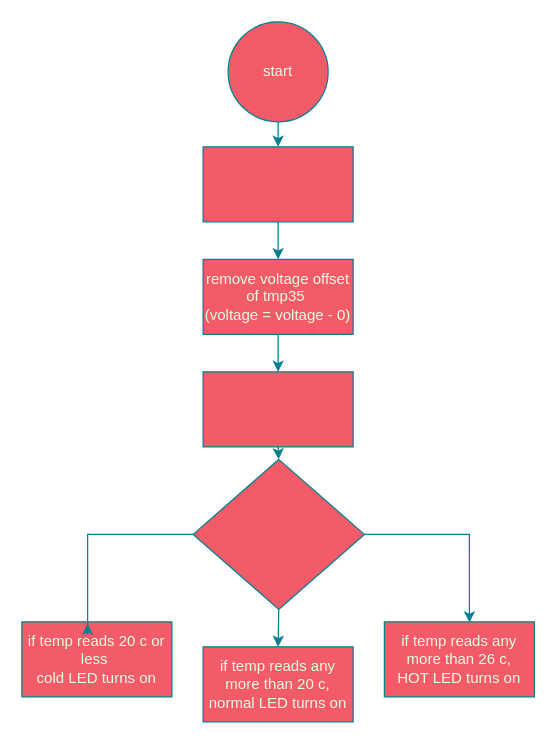
Some shapes in this 556 by 744 pixel diagram are drawn without their labels. Each missing label, with the centre of its shape:
convert mv to celcius celcius = voltage/10: point 277,409
convert sensor value to mv: point 277,184
read temp & decide which led needs to be on: point 278,533
